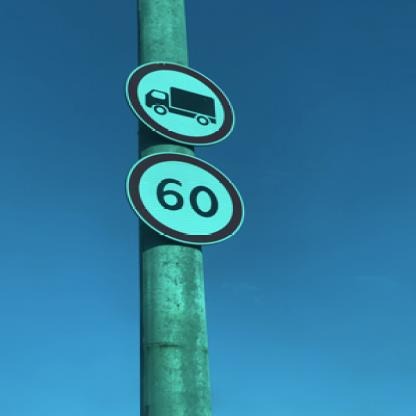Speed Limit 60: (132, 152, 245, 245)
